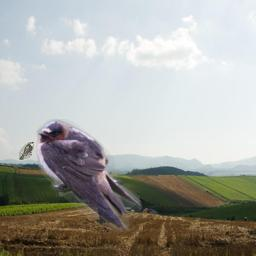Cuckoo: (19, 142, 34, 160)
Swallow: (35, 119, 142, 232)
